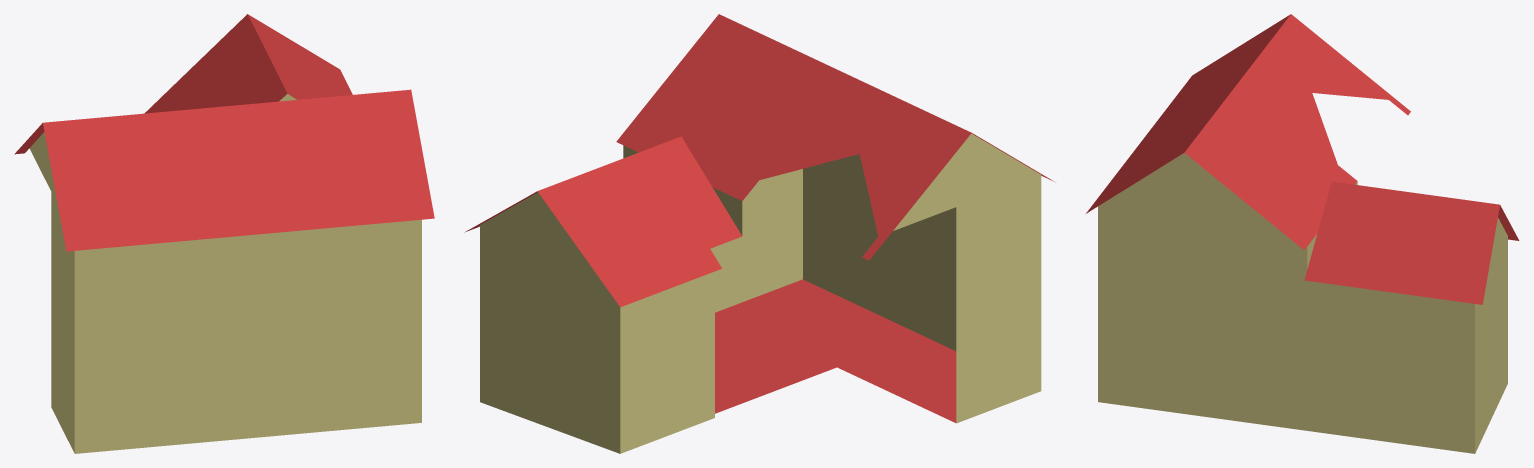
3 renders of one model, left to right at view 1: azimuth 30°, elevation 25°; view 2: azimuth 150°, elevation 25°; view 3: azimuth 270°, elevation 25°, orthographic. The views are drawn at different scales.
Bounding box in the file's own units: 22.9 × 21.73 × 14.67.
